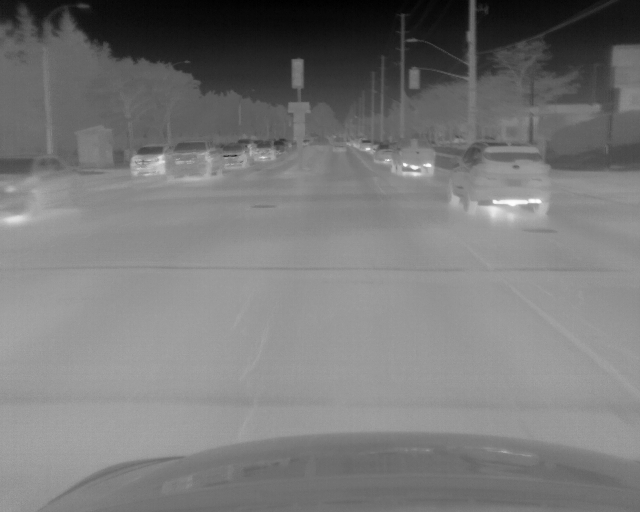car: (448, 142, 551, 216), (1, 154, 81, 220), (166, 141, 222, 179), (392, 138, 435, 177), (130, 146, 165, 174), (221, 143, 248, 170), (255, 141, 273, 159), (373, 144, 392, 161), (358, 139, 372, 151)
